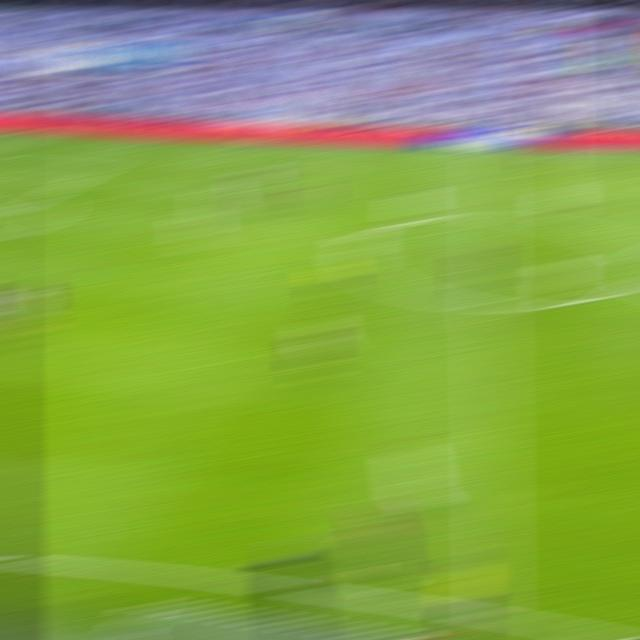bigarea_bottom_outter: (23, 192, 54, 204)
bigarea_top_inner: (23, 192, 54, 205)
halfcircle_bottom: (472, 288, 509, 319)
halfcircle_top: (472, 203, 507, 228)
midline_bottom_intersection: (473, 595, 512, 624)
midline_top_intersection: (473, 147, 506, 160)
